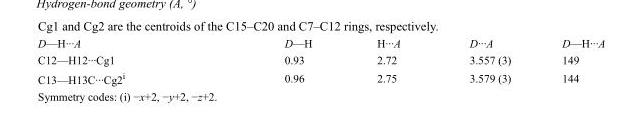table: (37, 36, 604, 85)
table column: (37, 36, 203, 85), (203, 36, 343, 85), (434, 36, 535, 85), (343, 36, 434, 85), (535, 36, 604, 85)
table row: (37, 67, 604, 85), (37, 51, 604, 67), (37, 36, 604, 51)
